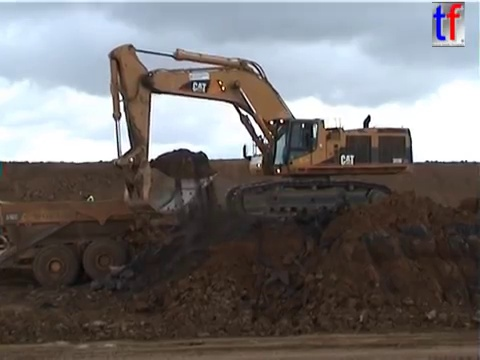excavator: (105, 40, 416, 225)
truck: (1, 197, 174, 289)
worker: (82, 190, 96, 214)
